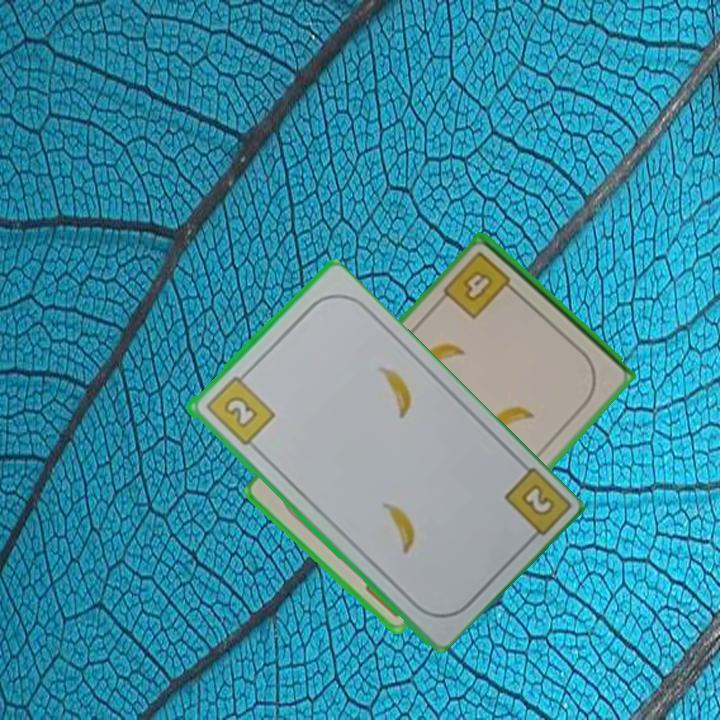2b: (201, 368, 277, 449), (517, 480, 557, 519)
4b: (439, 248, 522, 323)
